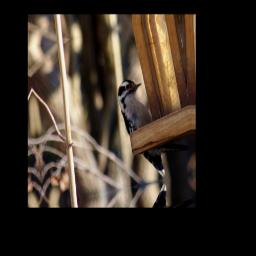Woodpecker: (116, 67, 192, 184)
